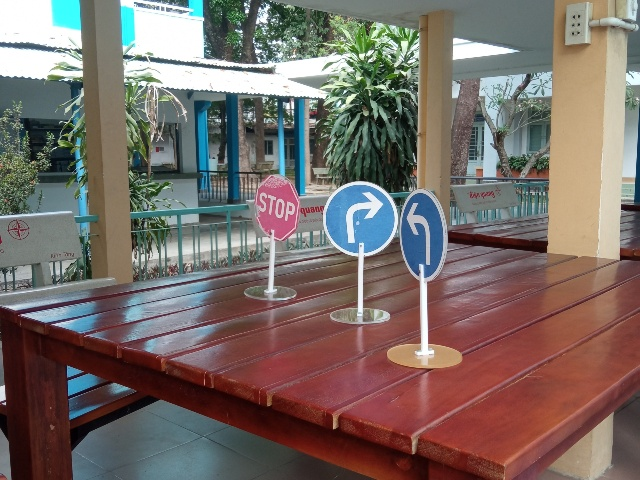Left_Sign: (399, 188, 448, 282)
Right_Sign: (322, 181, 399, 258)
Stop_Sign: (254, 174, 301, 242)
